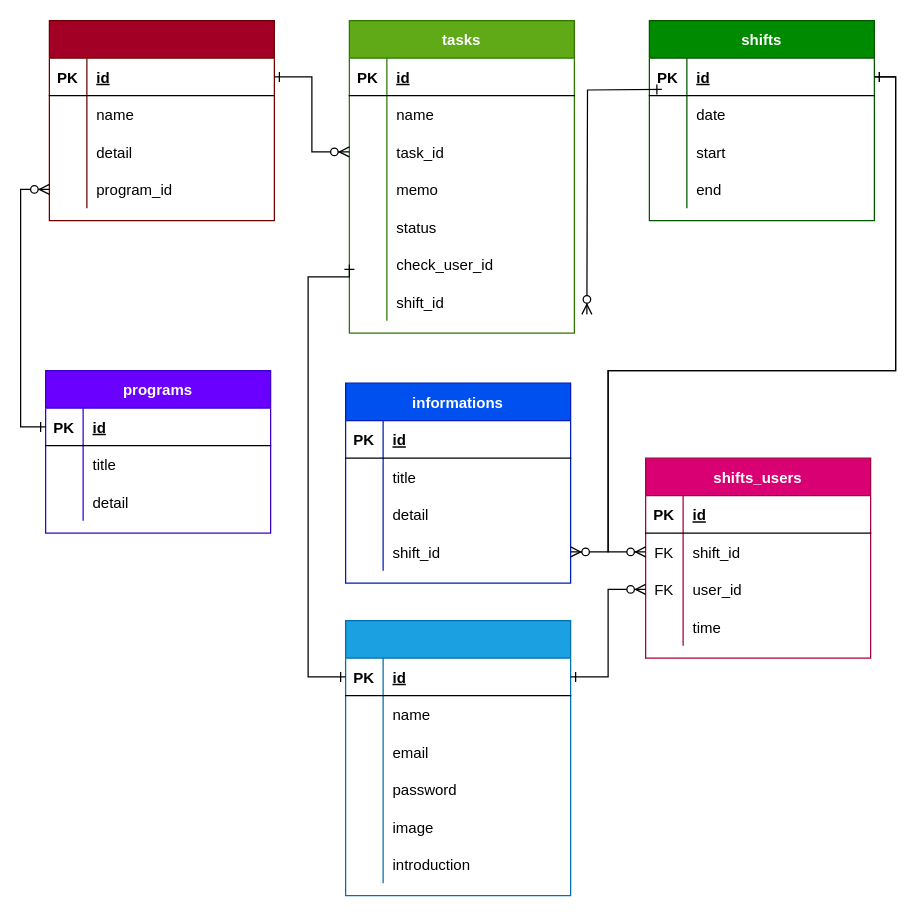
Some shapes in this 916 by 916 pixel diagram are drawn without their labels. The box of each missing label's shape, as (x1, y1, x2, y2) in pixels:
tasks_templates: (48, 19, 274, 221)
users: (344, 619, 571, 896)
